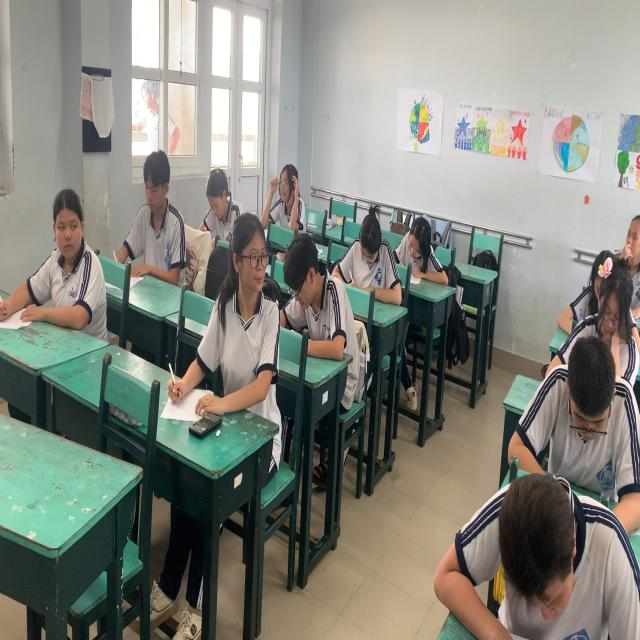cheating: (217, 209, 280, 436), (34, 176, 102, 343)
not_cheating: (488, 456, 619, 631), (533, 343, 633, 477), (284, 239, 353, 362), (395, 204, 467, 305), (136, 151, 191, 282), (574, 274, 633, 368), (349, 211, 398, 313), (600, 208, 640, 288), (199, 160, 240, 238), (266, 159, 310, 225)
